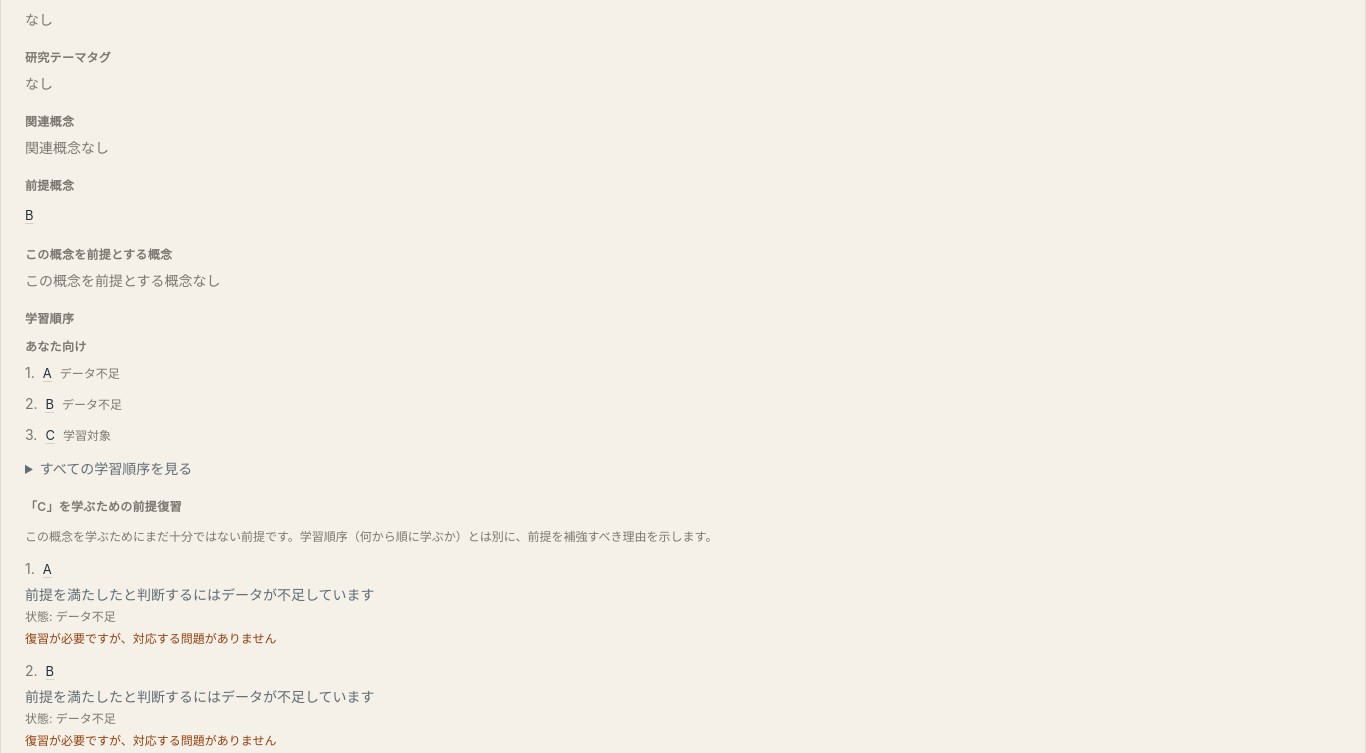
Test: ConceptDetail learning sequence (#120) › A → B → C の学習順序を表示し、クリックで既存 navigation に ID を渡す
(page scrolled)
Check: the element with test id "concept-learning-sequence" shows "学習順序", box left=25, top=311, right=74, bottom=326
Check: the element with test id "personalized-learning-sequence" shows "あなた向け", box left=25, top=339, right=86, bottom=354
Click the button "A" below "あなた向け": (47, 374) left=43, top=363, right=52, bottom=386
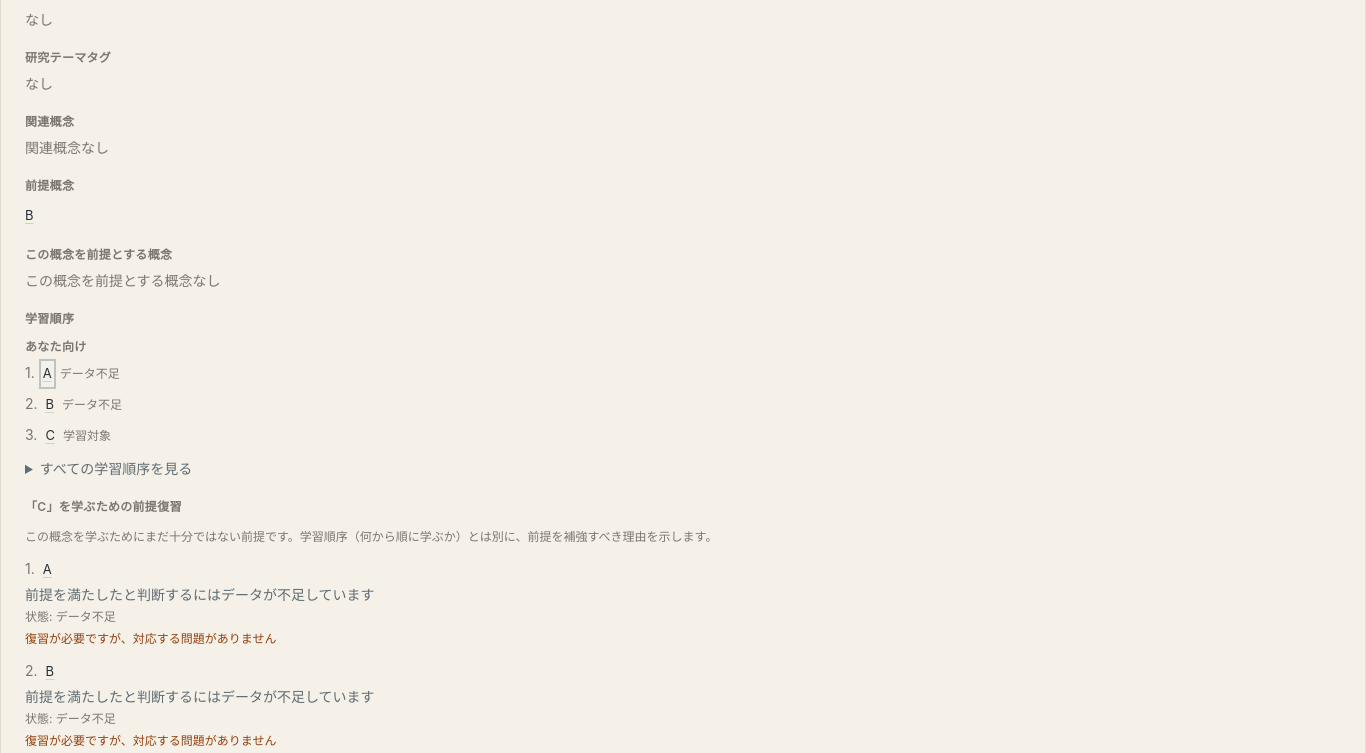
Click the heading "すべての学習順序を見る": (116, 468) left=40, top=460, right=192, bottom=477
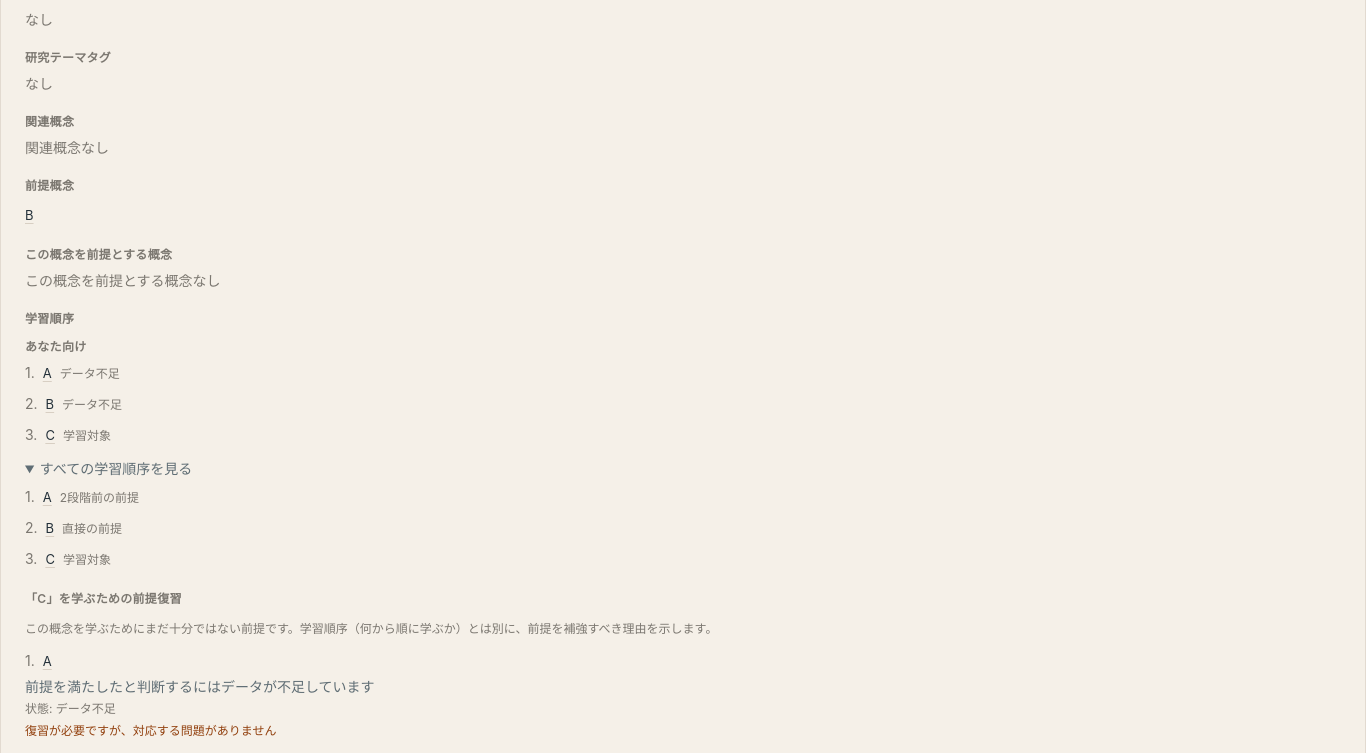
Check: the element with test id "full-learning-sequence" shows "2段階前の前提", box left=60, top=490, right=139, bottom=505
Check: the element with test id "full-learning-sequence" shows "直接の前提", box left=62, top=521, right=122, bottom=536
Check: the element with test id "full-learning-sequence" shows "学習対象", box left=63, top=552, right=111, bottom=567
